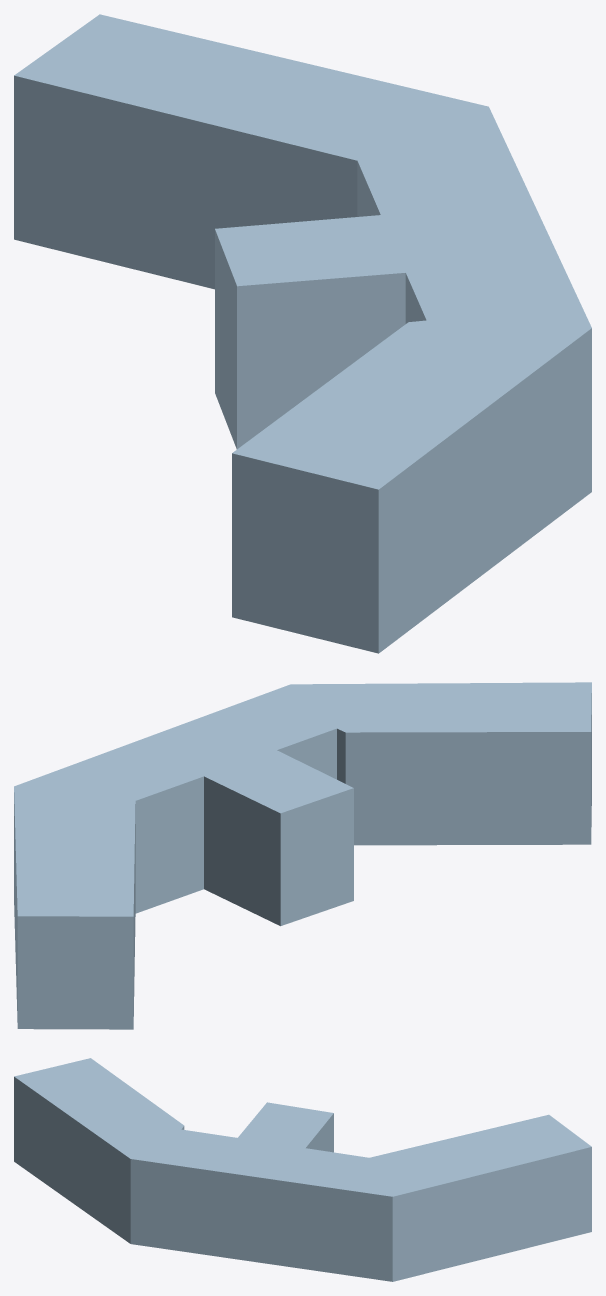
The model's file is osm_way_1173057055.glb.
The picture shows the model from 3 angles, top to bottom: view 1: azimuth 30°, elevation 25°; view 2: azimuth 150°, elevation 25°; view 3: azimuth 270°, elevation 25°; orthographic projection. The views are drawn at different scales.
Parts seen in each view (by area): view 1: osm_way_1173057055; view 2: osm_way_1173057055; view 3: osm_way_1173057055.
Part boxes in pixels (x1=…): osm_way_1173057055: x1=14, y1=14, x2=591, y2=653; osm_way_1173057055: x1=14, y1=682, x2=591, y2=1029; osm_way_1173057055: x1=14, y1=1058, x2=591, y2=1281.
Size of the model in its own units: 77.61 by 22.2 by 137.
